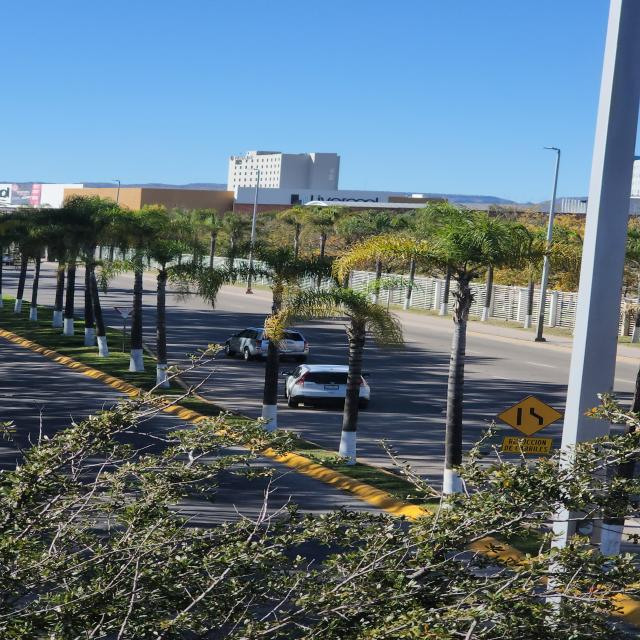Auto: (286, 365, 372, 410), (226, 329, 307, 362)
